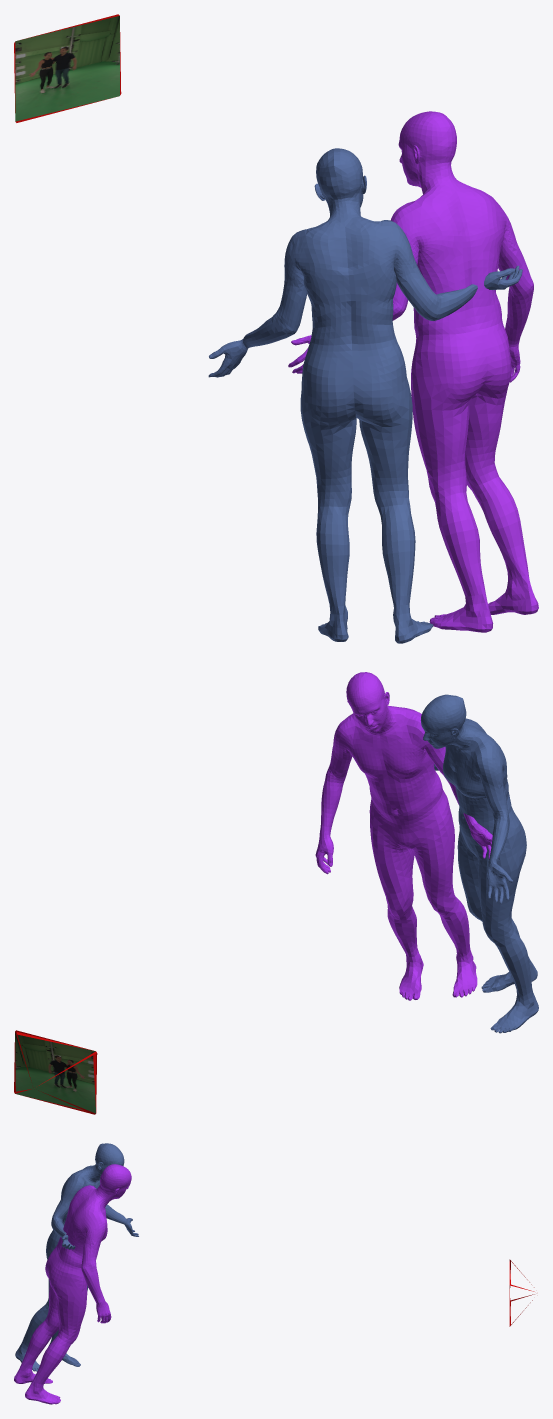
File: pair14_talk14_000086.jpg_multiHMR_896_L.png.glb
The picture shows the model from 3 angles, top to bottom: view 1: azimuth 30°, elevation 25°; view 2: azimuth 150°, elevation 25°; view 3: azimuth 270°, elevation 25°; orthographic projection. The views are drawn at different scales.
Parts seen in each view (by area): view 1: world; view 2: world; view 3: world.
Boxes of the visible parts, box(x1,y1,x2,y2) form: world: box(14, 14, 538, 643); world: box(14, 672, 538, 1114); world: box(14, 1143, 534, 1404).
Bounding box in the file's own units: 1.1 × 1.71 × 3.43.
Materials: 3 (1 with a texture image).
